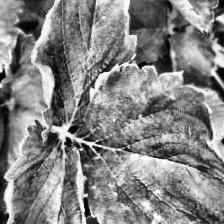Powdery Mildew Leaf: (70, 62, 224, 224), (30, 0, 138, 140), (0, 119, 93, 224), (154, 0, 219, 34)
